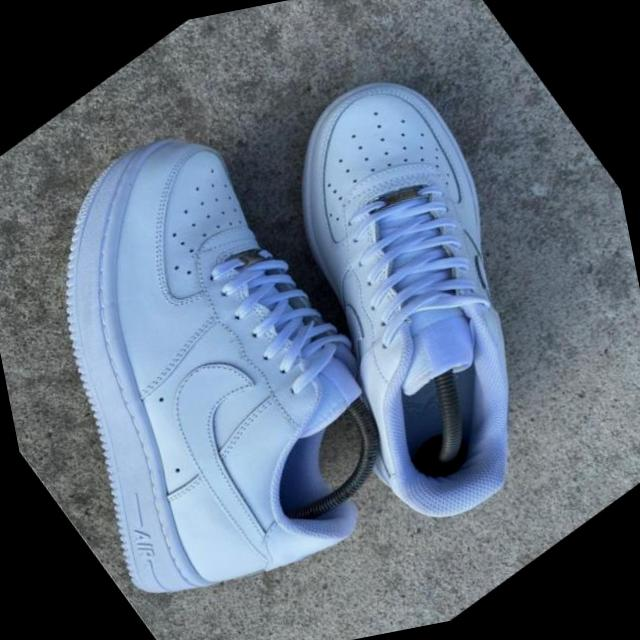nike_original_airforce: (0, 60, 491, 640), (165, 18, 640, 579)
